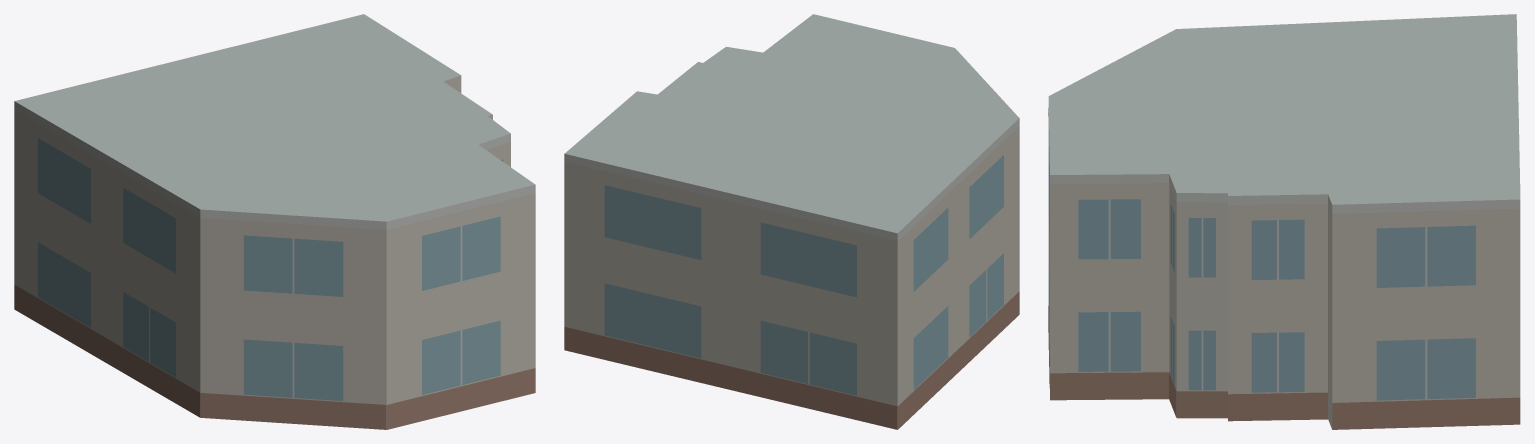
The model's file is survey-upis-32989249.glb.
3 renders of one model, left to right at view 1: azimuth 30°, elevation 25°; view 2: azimuth 150°, elevation 25°; view 3: azimuth 270°, elevation 25°, orthographic. The views are drawn at different scales.
Visible parts, largest first — view 1: survey-upis-32989249.tmp; view 2: survey-upis-32989249.tmp; view 3: survey-upis-32989249.tmp.
Part boxes in pixels (x1=…): survey-upis-32989249.tmp: x1=14, y1=14, x2=535, y2=429; survey-upis-32989249.tmp: x1=564, y1=14, x2=1019, y2=429; survey-upis-32989249.tmp: x1=1048, y1=14, x2=1520, y2=429.
Bounding box in the file's own units: 11.1 × 6.1 × 11.6.
